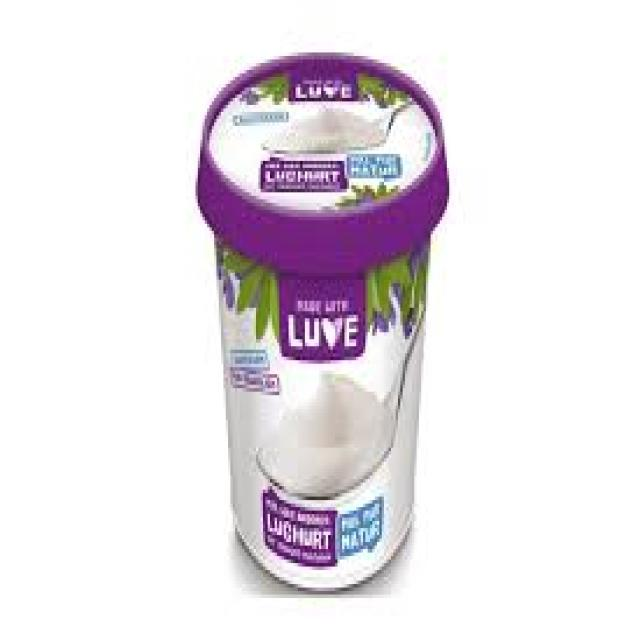plastic: (195, 49, 447, 591), (195, 49, 447, 276)
